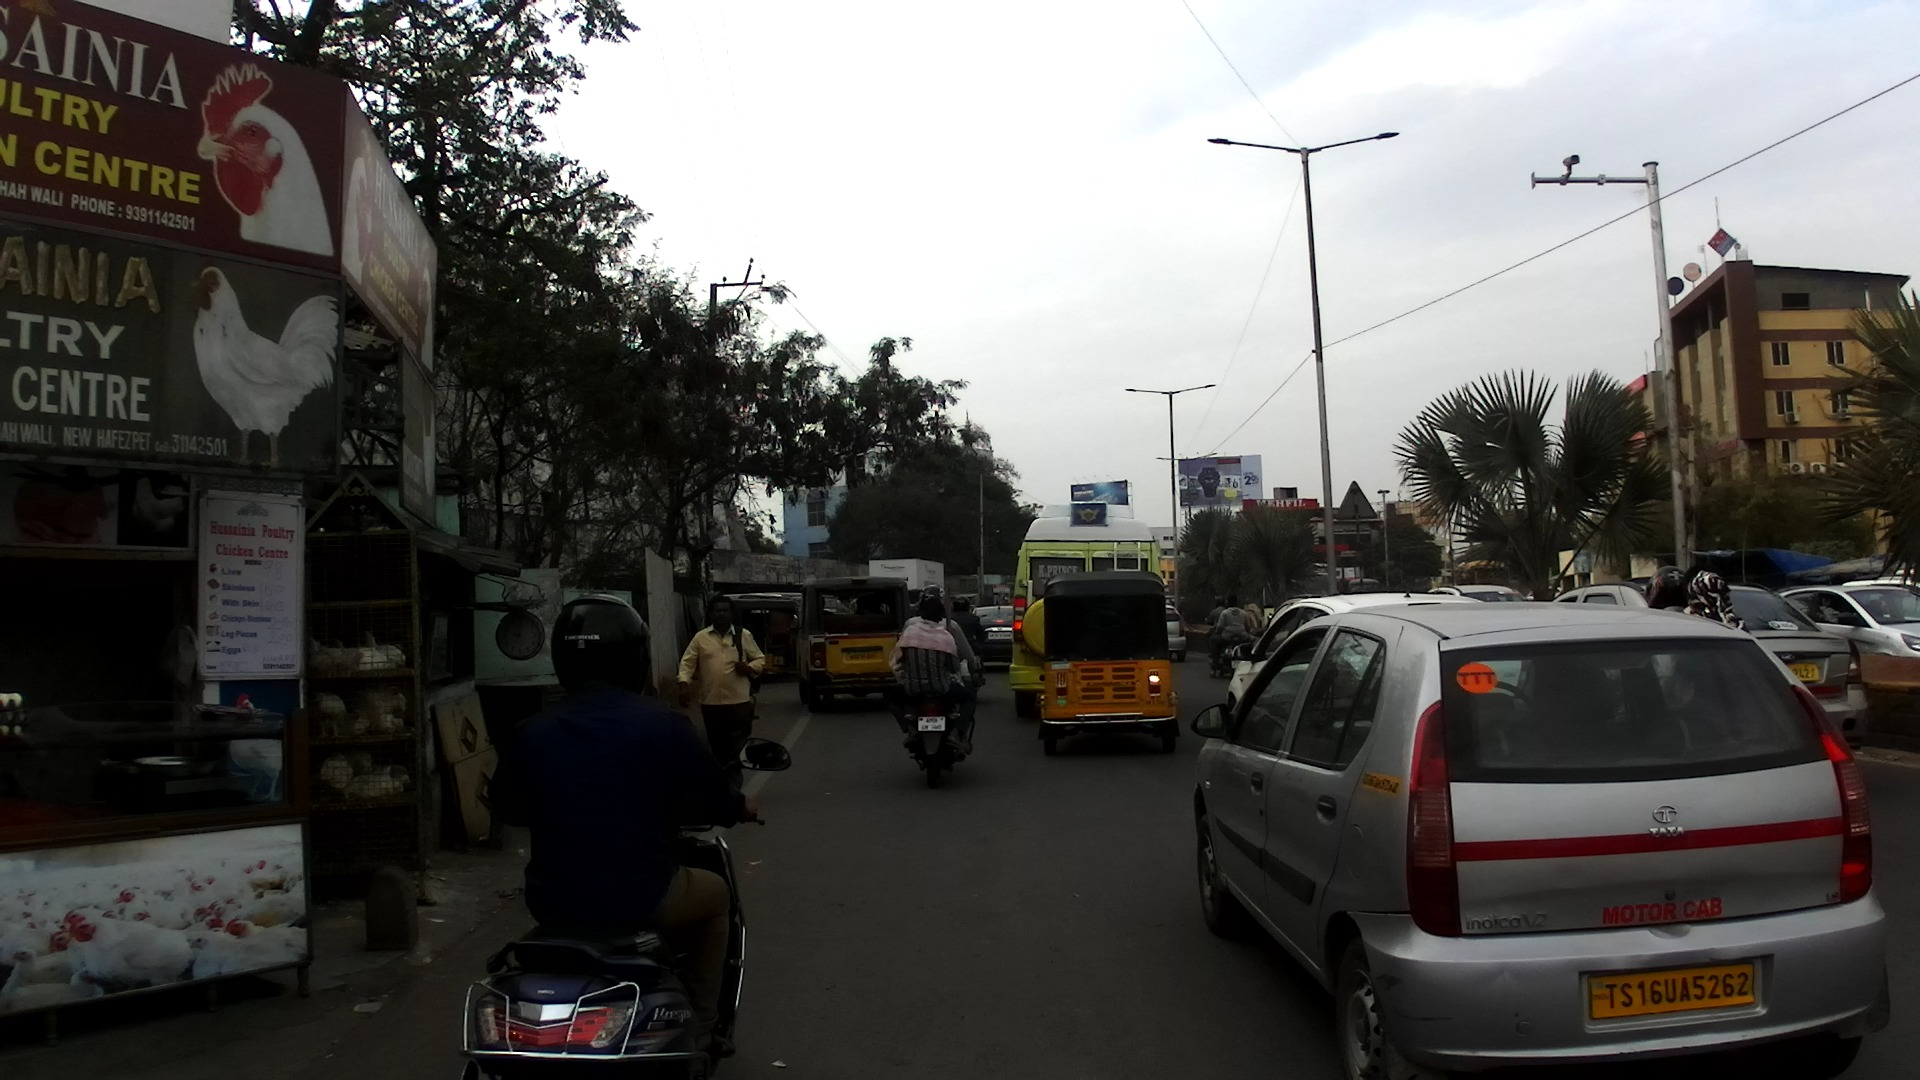autorickshaw: (1036, 570, 1181, 756), (704, 599, 802, 680)
bus: (1011, 503, 1167, 723)
car: (1191, 600, 1889, 1080), (1549, 582, 1871, 753), (1226, 587, 1485, 707), (795, 575, 910, 713), (1780, 585, 1920, 658), (971, 602, 1017, 665), (1427, 585, 1525, 599), (1164, 605, 1187, 662), (1525, 584, 1564, 604)
motorcycle: (462, 739, 795, 1077), (894, 680, 976, 788), (1201, 617, 1255, 676), (971, 640, 986, 691), (1267, 613, 1272, 621)
person: (676, 594, 768, 791)
rider: (488, 590, 750, 1065), (883, 595, 975, 755), (901, 582, 981, 684), (1683, 562, 1749, 633), (1210, 595, 1253, 660), (1643, 565, 1689, 617), (949, 594, 983, 656), (1202, 594, 1229, 655)
vehicle fallback: (1844, 570, 1917, 586), (1349, 576, 1380, 593), (724, 593, 799, 600), (960, 592, 987, 608), (1166, 594, 1184, 612)
